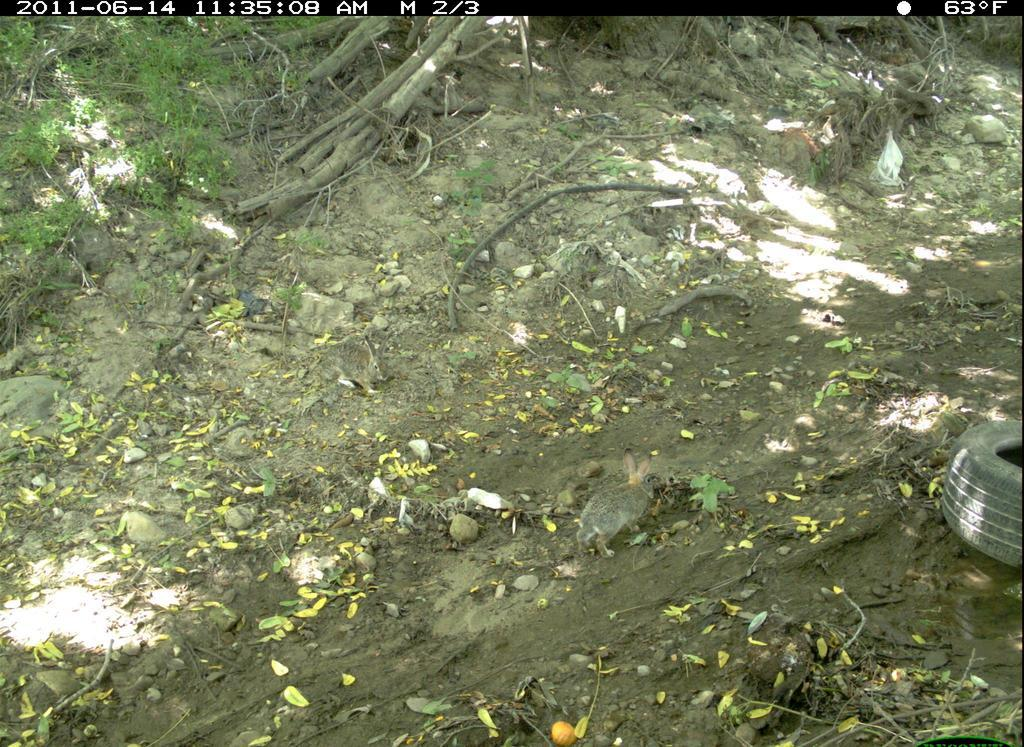rabbit: (571, 446, 662, 560)
